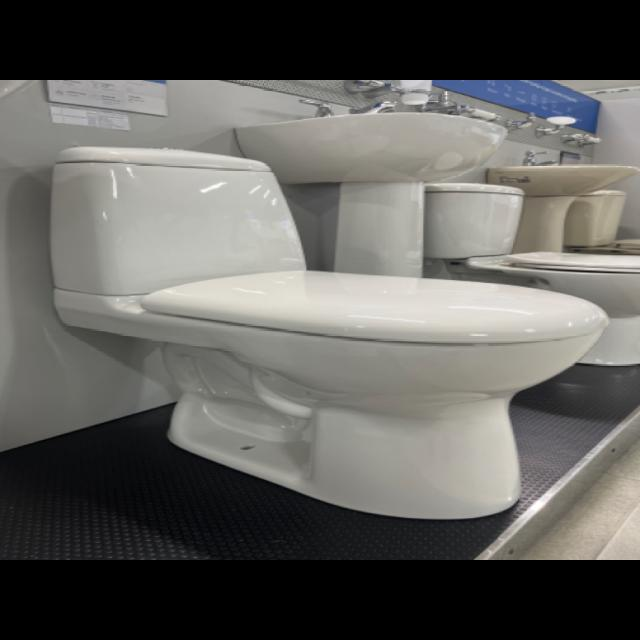toilet: (49, 145, 608, 520)
